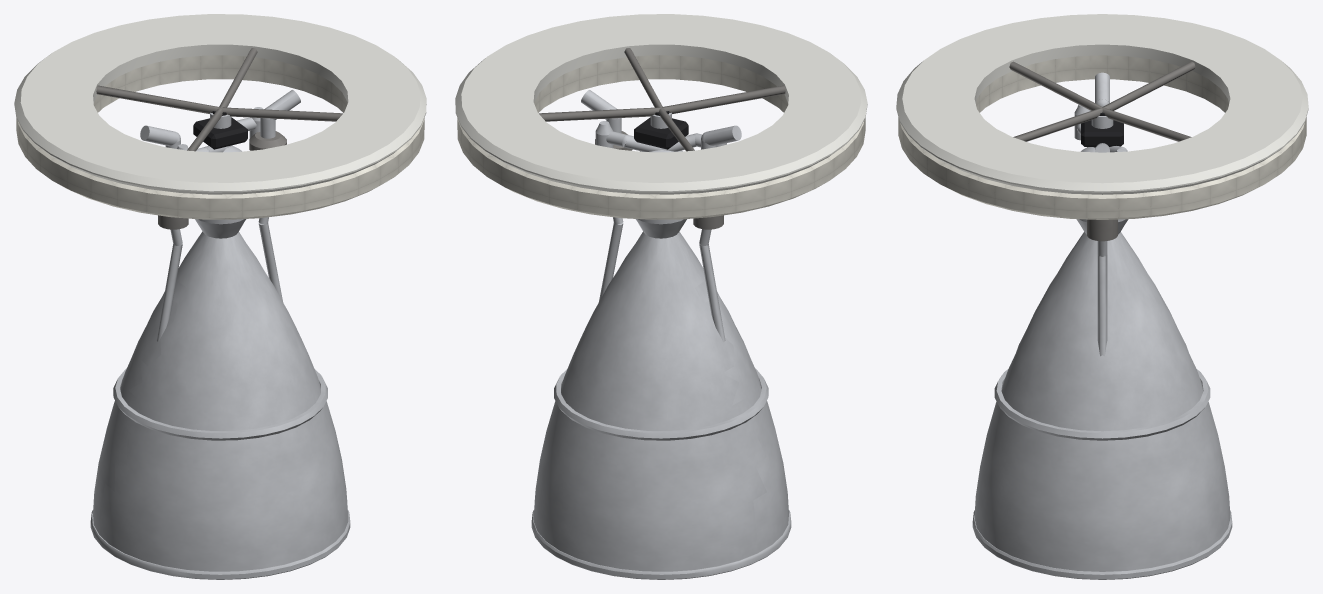
Rendered from ax_prop_11_hydrolox_booster.glb.
3 views of the same model, side by side, from view 1: azimuth 30°, elevation 25°; view 2: azimuth 150°, elevation 25°; view 3: azimuth 270°, elevation 25° (orthographic).
Parts seen in each view (by area): view 1: regen_nozzle, mount_ring, thermal_blanket_ring, plumbing, thrust_struts, regen_manifold, nozzle_lip, gimbal, turbopumps, chamber; view 2: regen_nozzle, mount_ring, thermal_blanket_ring, plumbing, thrust_struts, regen_manifold, nozzle_lip, gimbal, chamber; view 3: regen_nozzle, mount_ring, thermal_blanket_ring, thrust_struts, regen_manifold, nozzle_lip, plumbing, gimbal, turbopumps.
Part boxes in pixels (bbox=[...]): regen_nozzle: bbox=[93, 231, 348, 571]; mount_ring: bbox=[14, 14, 426, 194]; thermal_blanket_ring: bbox=[16, 55, 424, 219]; plumbing: bbox=[140, 90, 300, 342]; thrust_struts: bbox=[96, 48, 342, 151]; regen_manifold: bbox=[113, 368, 327, 440]; nozzle_lip: bbox=[90, 510, 350, 579]; gimbal: bbox=[193, 111, 247, 149]; turbopumps: bbox=[158, 131, 286, 229]; chamber: bbox=[195, 219, 246, 238]; regen_nozzle: bbox=[533, 231, 788, 571]; mount_ring: bbox=[455, 14, 867, 194]; thermal_blanket_ring: bbox=[457, 55, 865, 219]; plumbing: bbox=[581, 90, 741, 342]; thrust_struts: bbox=[539, 48, 785, 151]; regen_manifold: bbox=[554, 368, 768, 440]; nozzle_lip: bbox=[531, 510, 791, 579]; gimbal: bbox=[634, 111, 688, 149]; chamber: bbox=[635, 219, 686, 238]; regen_nozzle: bbox=[974, 232, 1230, 571]; mount_ring: bbox=[896, 14, 1308, 194]; thermal_blanket_ring: bbox=[898, 55, 1306, 219]; thrust_struts: bbox=[1009, 61, 1195, 141]; regen_manifold: bbox=[994, 369, 1210, 440]; nozzle_lip: bbox=[972, 510, 1232, 579]; plumbing: bbox=[1077, 72, 1127, 356]; gimbal: bbox=[1081, 109, 1123, 146]; turbopumps: bbox=[1087, 147, 1117, 241].
Size of the model in its own units: 3.74 by 4.28 by 3.75.
Materials: 5 (3 with a texture image).
